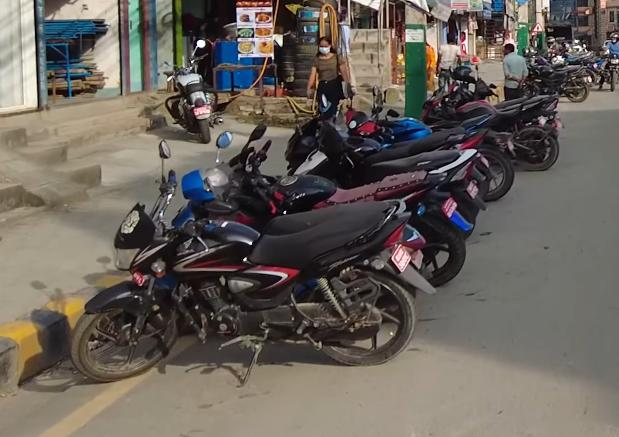bike: (69, 169, 433, 384)
